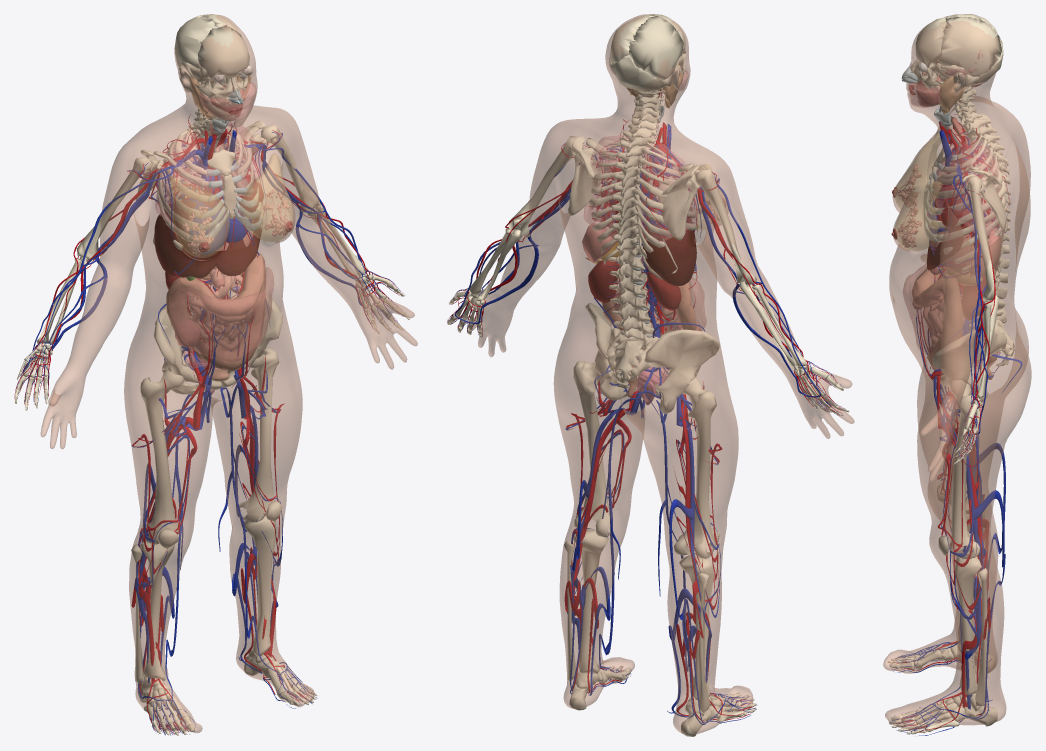
Rendered from f-body.glb.
The picture shows the model from 3 angles, left to right: view 1: azimuth 30°, elevation 25°; view 2: azimuth 150°, elevation 25°; view 3: azimuth 270°, elevation 25°; orthographic projection. The views are drawn at different scales.
Parts seen in each view (by area): view 1: skin, bone, glass, vein, organ, artery; view 2: skin, bone, vein, artery, organ, glass; view 3: skin, bone, glass, organ, vein, artery, heart.
Part boxes in pixels (x1,y1,x2,y2): skin: (40, 15, 417, 733); bone: (15, 14, 409, 735); glass: (155, 82, 292, 377); vein: (16, 73, 403, 735); organ: (153, 65, 292, 394); artery: (14, 69, 402, 734); skin: (472, 14, 854, 734); bone: (447, 14, 849, 736); vein: (447, 124, 845, 724); artery: (447, 89, 841, 721); organ: (582, 67, 725, 404); glass: (584, 70, 713, 383); skin: (883, 20, 1031, 732); bone: (888, 14, 1014, 734); glass: (895, 79, 1002, 369); organ: (891, 50, 1000, 380); vein: (892, 121, 1022, 735); artery: (896, 62, 1009, 732); heart: (934, 185, 972, 229).
Size of the model in its own units: 1.01 by 1.66 by 0.3271.
